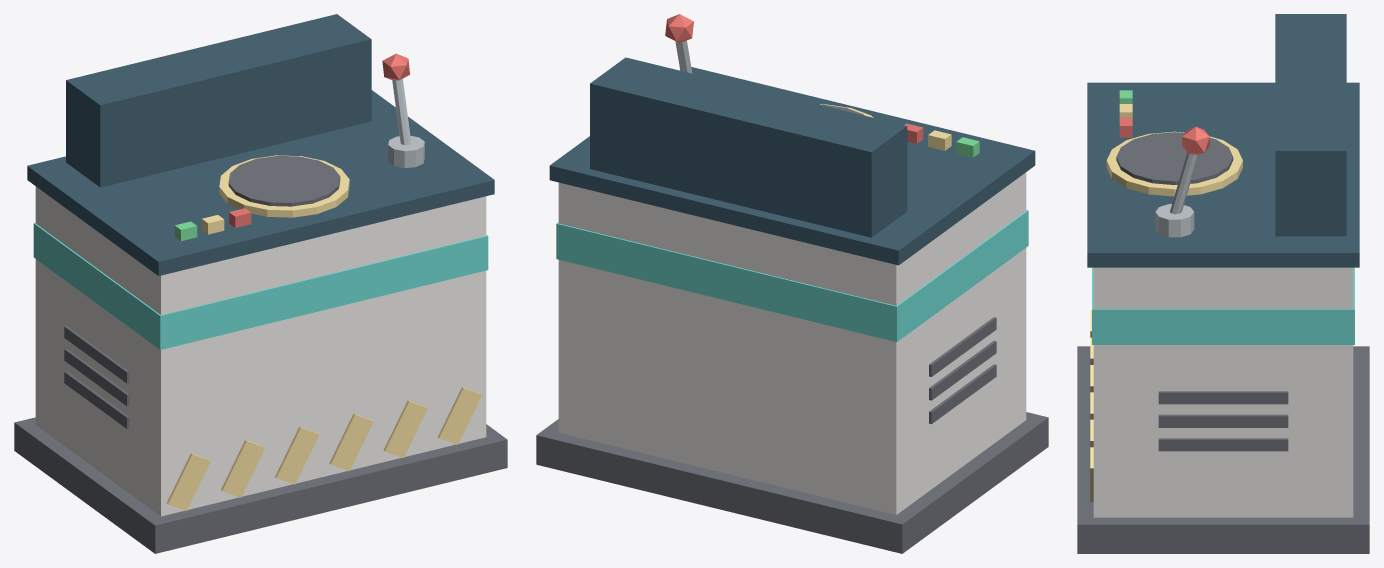
File: WaveConsole.fbx
3 views of the same model, side by side, from view 1: azimuth 30°, elevation 25°; view 2: azimuth 150°, elevation 25°; view 3: azimuth 270°, elevation 25° (orthographic). The views are drawn at different scales.
Visible parts, largest first — view 1: WaveConsole; view 2: WaveConsole; view 3: WaveConsole.
Boxes of the visible parts, left/top/right/bottom form: WaveConsole: left=14, top=14, right=507, bottom=553; WaveConsole: left=536, top=14, right=1048, bottom=553; WaveConsole: left=1077, top=14, right=1369, bottom=553.
Size of the model in its own units: 1.3 by 1.36 by 0.9.
